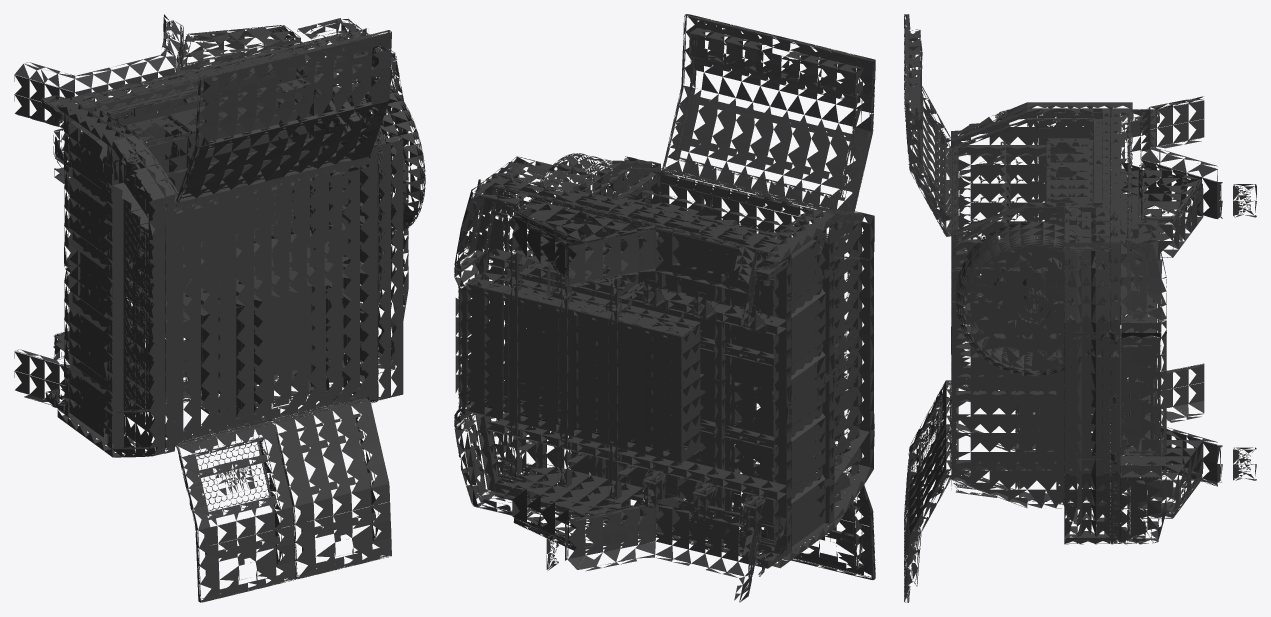
The model's file is blackdog-canopy-model-small (1).glb.
3 views of the same model, side by side, from view 1: azimuth 30°, elevation 25°; view 2: azimuth 150°, elevation 25°; view 3: azimuth 270°, elevation 25° (orthographic). The views are drawn at different scales.
Visible parts, largest first — view 1: world; view 2: world; view 3: world.
Boxes of the visible parts, bbox=[...] form: world: bbox=[14, 14, 425, 602]; world: bbox=[454, 14, 875, 602]; world: bbox=[904, 14, 1256, 602].
Size of the model in its own units: 194 by 298 by 191.
Materials: 1 (1 with a texture image).
